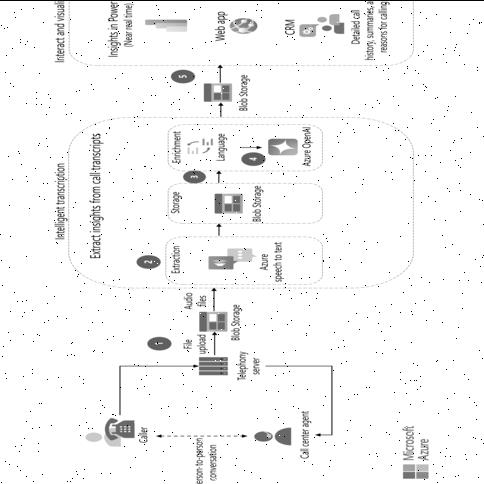actor: (84, 422, 136, 450), (253, 422, 292, 450)
compute: (298, 11, 344, 39), (143, 14, 187, 36), (210, 248, 248, 270), (190, 356, 227, 376), (186, 134, 214, 158), (266, 136, 299, 156), (230, 14, 258, 36)
data_flow: (224, 364, 332, 367), (157, 433, 244, 436), (330, 366, 333, 434), (121, 364, 188, 367), (119, 365, 122, 414), (228, 144, 254, 148), (207, 332, 210, 355), (207, 287, 210, 310), (219, 102, 222, 116), (217, 223, 220, 236), (217, 168, 220, 181), (219, 67, 222, 80)
database_storage: (202, 80, 235, 104), (212, 192, 246, 214), (192, 310, 225, 332)
trust_boundary: (67, 117, 413, 288), (67, 0, 413, 66)
